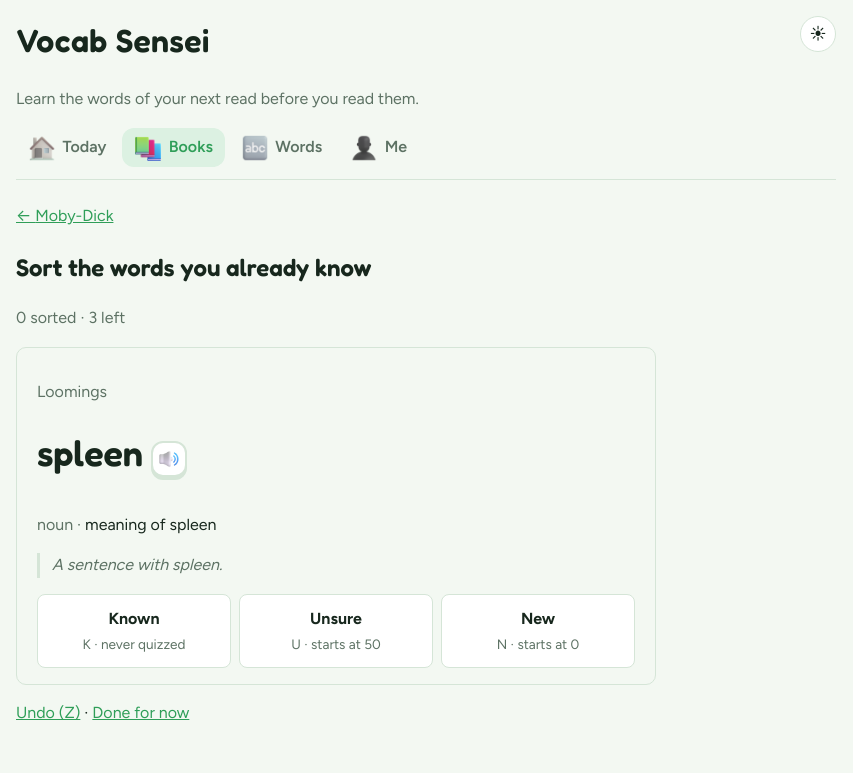
Test: sorting words › keeps the card when sorting fails
Click the button "Known K · never quizzed". click: (134, 631)
box: [37,594,231,668]
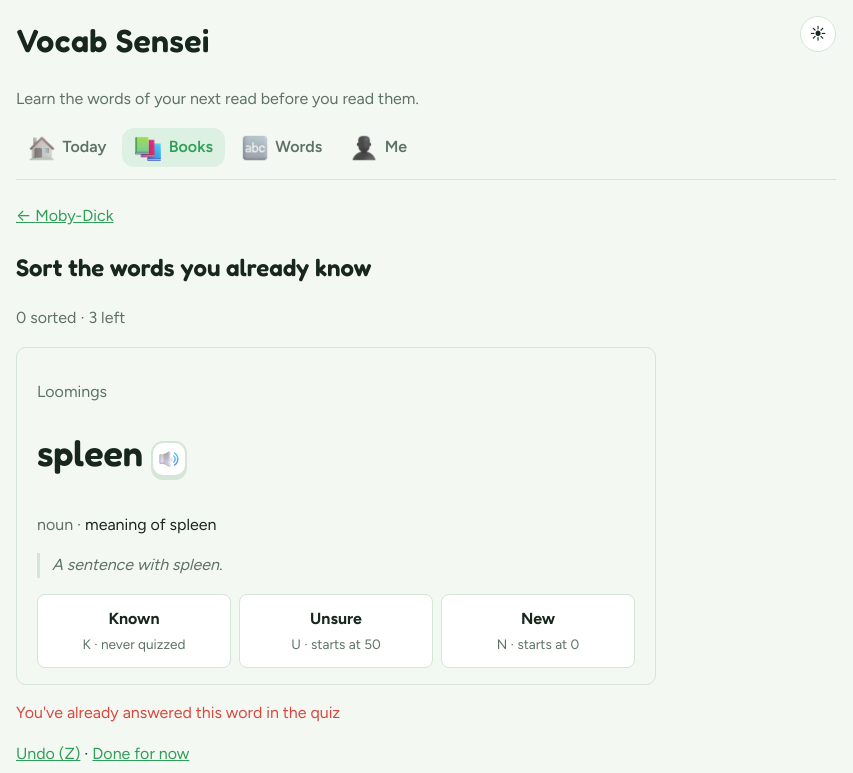
Expected: the heading "spleen" is shown, [37,425,143,481]
Expected: the message shows "already answered", [16,704,340,722]
